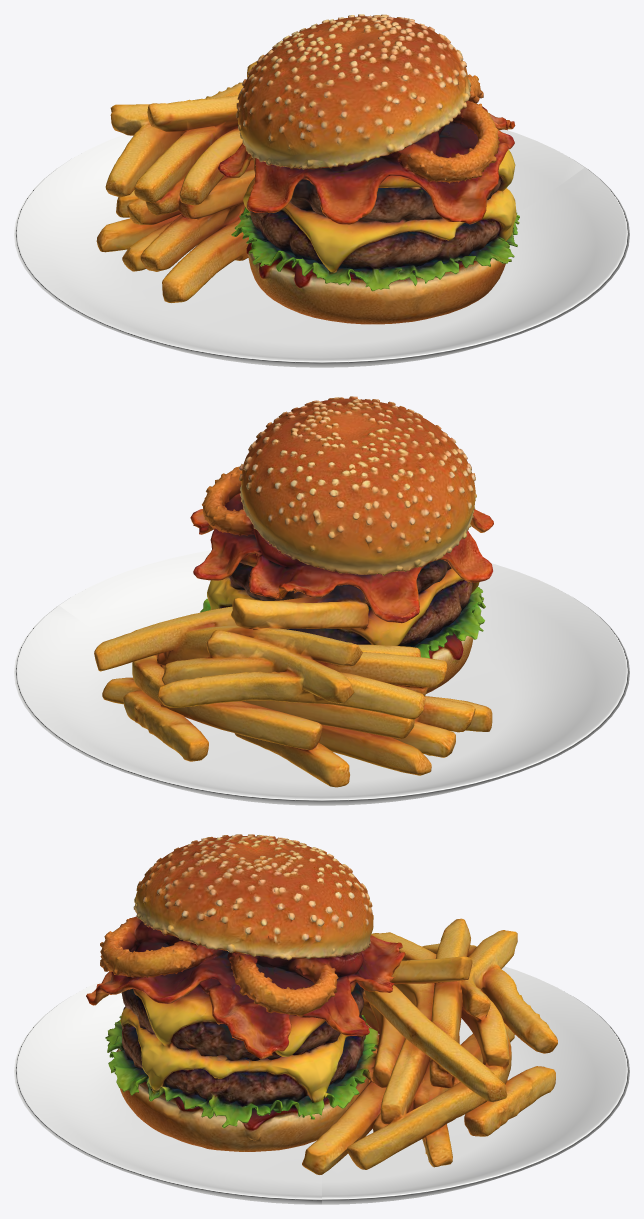
The model's file is hamburguesa_10.glb.
3 views of the same model, one above another, from view 1: azimuth 30°, elevation 25°; view 2: azimuth 150°, elevation 25°; view 3: azimuth 270°, elevation 25° (orthographic).
Parts seen in each view (by area): view 1: tripo_node_ad43b7fd-dc60-4c42-aa59-ff6640f37b76, plato; view 2: tripo_node_ad43b7fd-dc60-4c42-aa59-ff6640f37b76, plato; view 3: tripo_node_ad43b7fd-dc60-4c42-aa59-ff6640f37b76, plato.
Boxes of the visible parts, left/top/right/bottom form: tripo_node_ad43b7fd-dc60-4c42-aa59-ff6640f37b76: left=96, top=14, right=519, bottom=324; plato: left=14, top=129, right=629, bottom=367; tripo_node_ad43b7fd-dc60-4c42-aa59-ff6640f37b76: left=94, top=396, right=493, bottom=787; plato: left=14, top=550, right=629, bottom=805; tripo_node_ad43b7fd-dc60-4c42-aa59-ff6640f37b76: left=86, top=834, right=557, bottom=1174; plato: left=14, top=966, right=629, bottom=1204.
Bounding box in the file's own units: 0.274 × 0.1313 × 0.274.
2 materials, 1 textured.
